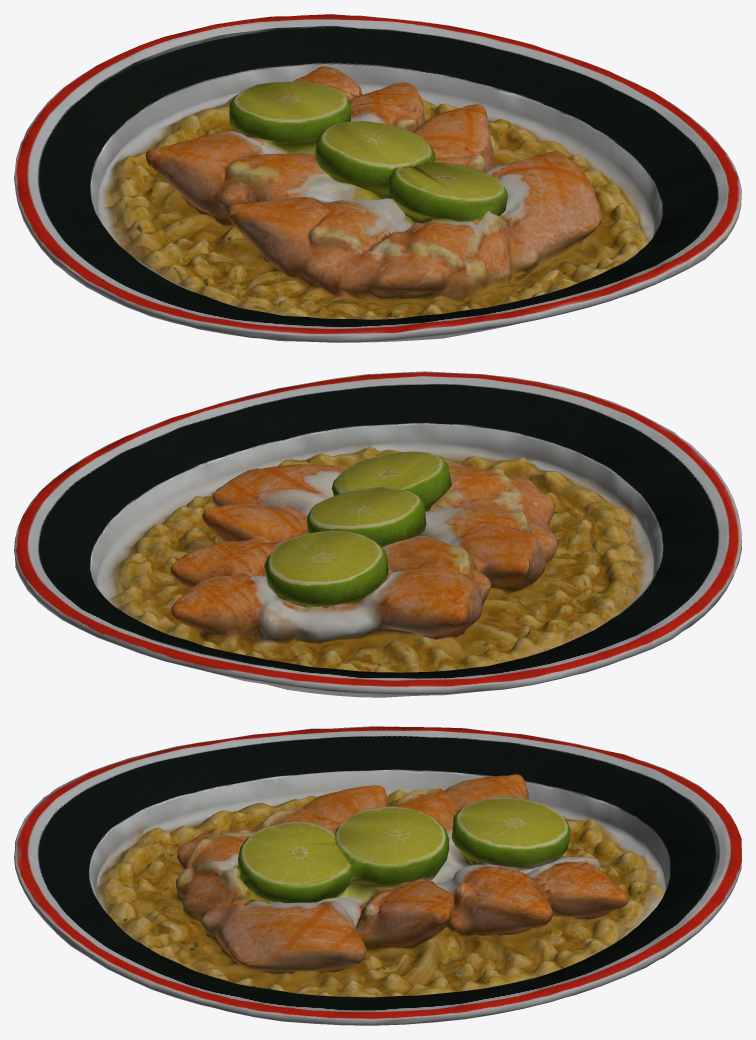
Rendered from salmone_limone.fbx.
3 renders of one model, top to bottom at view 1: azimuth 30°, elevation 25°; view 2: azimuth 150°, elevation 25°; view 3: azimuth 270°, elevation 25°, orthographic. The views are drawn at different scales.
Parts seen in each view (by area): view 1: meshes[0]; view 2: meshes[0]; view 3: meshes[0].
Boxes of the visible parts, box(x1,y1,x2,y2) form: meshes[0]: box(14, 14, 741, 342); meshes[0]: box(14, 371, 741, 697); meshes[0]: box(14, 726, 741, 1025).
Size of the model in its own units: 97.85 by 15.24 by 103.
1 material, 1 textured.
